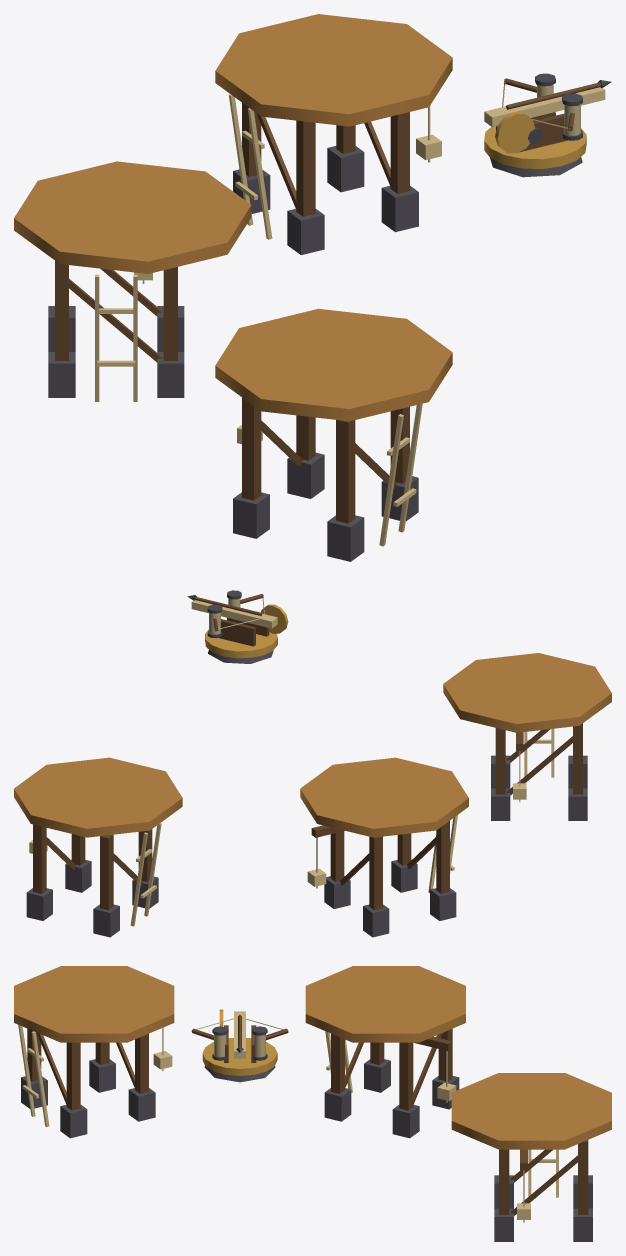
Rendered from base_builder_weapon_2.glb.
3 renders of one model, top to bottom at view 1: azimuth 30°, elevation 25°; view 2: azimuth 150°, elevation 25°; view 3: azimuth 270°, elevation 25°, orthographic. The views are drawn at different scales.
Visible parts, largest first — view 1: tower_slot_2_plate, tower_slot_3_plate, tower_slot_1_plate, weapon_mount_gear, tower_slot_2_leg_1, tower_slot_2_leg_0, tower_slot_3_leg_3, tower_slot_3_leg_2, tower_slot_3_foot_3, tower_slot_2_foot_1, tower_slot_3_foot_0, tower_slot_3_foot_2 (+19 smaller); view 2: tower_slot_3_plate, tower_slot_1_plate, tower_slot_2_plate, weapon_mount_gear, tower_slot_3_leg_1, tower_slot_1_leg_0, tower_slot_1_leg_1, tower_slot_3_leg_0, stock, tower_slot_1_foot_0, tower_slot_1_foot_1, tower_slot_3_foot_1 (+12 smaller); view 3: tower_slot_1_plate, tower_slot_2_plate, tower_slot_3_plate, weapon_mount_gear, tower_slot_1_leg_2, tower_slot_2_leg_3, tower_slot_3_leg_0, tower_slot_2_foot_3, tower_slot_1_foot_2, tower_slot_1_foot_3, tower_slot_2_foot_2, tower_slot_1_leg_3 (+16 smaller).
Boxes of the visible parts, box(x1,y1,x2,y2) form: tower_slot_2_plate: box(215, 308, 452, 421); tower_slot_3_plate: box(215, 14, 452, 126); tower_slot_1_plate: box(14, 161, 251, 273); weapon_mount_gear: box(484, 126, 586, 168); tower_slot_2_leg_1: box(336, 420, 355, 523); tower_slot_2_leg_0: box(242, 397, 261, 500); tower_slot_3_leg_3: box(296, 120, 315, 216); tower_slot_3_leg_2: box(390, 112, 409, 193); tower_slot_3_foot_3: box(287, 208, 324, 254); tower_slot_2_foot_1: box(327, 515, 364, 561); tower_slot_3_foot_0: box(327, 146, 364, 192); tower_slot_3_foot_2: box(381, 185, 418, 232); tower_slot_3_plate: box(14, 757, 182, 837); tower_slot_1_plate: box(300, 757, 468, 837); tower_slot_2_plate: box(443, 653, 611, 732); weapon_mount_gear: box(205, 629, 277, 658); tower_slot_3_leg_1: box(100, 834, 113, 910); tower_slot_1_leg_0: box(369, 836, 382, 910); tower_slot_1_leg_1: box(436, 821, 449, 893); tower_slot_3_leg_0: box(33, 824, 46, 893); stock: box(191, 600, 277, 628); tower_slot_1_foot_0: box(363, 904, 389, 937); tower_slot_1_foot_1: box(430, 888, 456, 920); tower_slot_3_foot_1: box(93, 904, 119, 937); tower_slot_1_plate: box(305, 966, 465, 1042); tower_slot_2_plate: box(14, 966, 174, 1042); tower_slot_3_plate: box(451, 1073, 611, 1149); weapon_mount_gear: box(202, 1038, 277, 1075); tower_slot_1_leg_2: box(399, 1042, 413, 1110); tower_slot_2_leg_3: box(66, 1042, 80, 1110); tower_slot_3_leg_0: box(578, 1140, 588, 1214); tower_slot_2_foot_3: box(60, 1104, 87, 1138); tower_slot_1_foot_2: box(392, 1104, 419, 1138); tower_slot_1_foot_3: box(324, 1088, 351, 1121); tower_slot_2_foot_2: box(128, 1088, 155, 1121); tower_slot_1_leg_3: box(331, 1033, 344, 1093).
Bounding box in the file's own units: 1.05 × 0.559 × 1.52.
